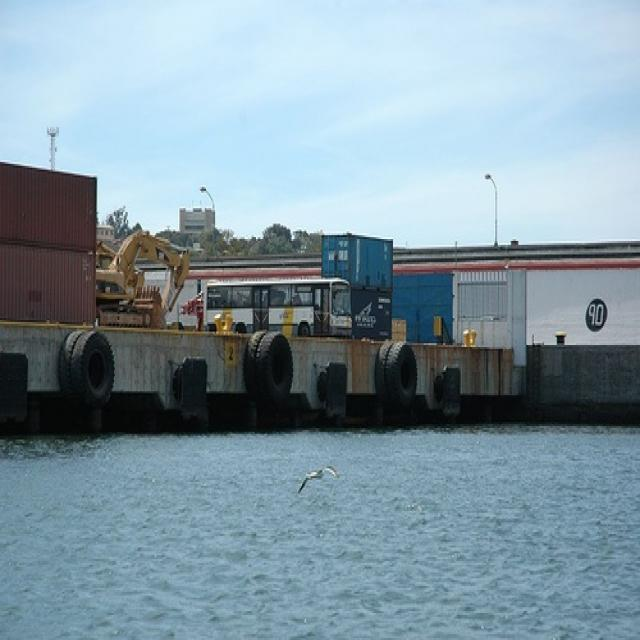bus: (200, 274, 350, 341)
